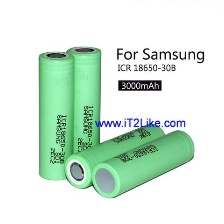battery: (89, 127, 197, 201), (63, 123, 167, 192), (35, 48, 74, 180), (64, 42, 103, 173)
